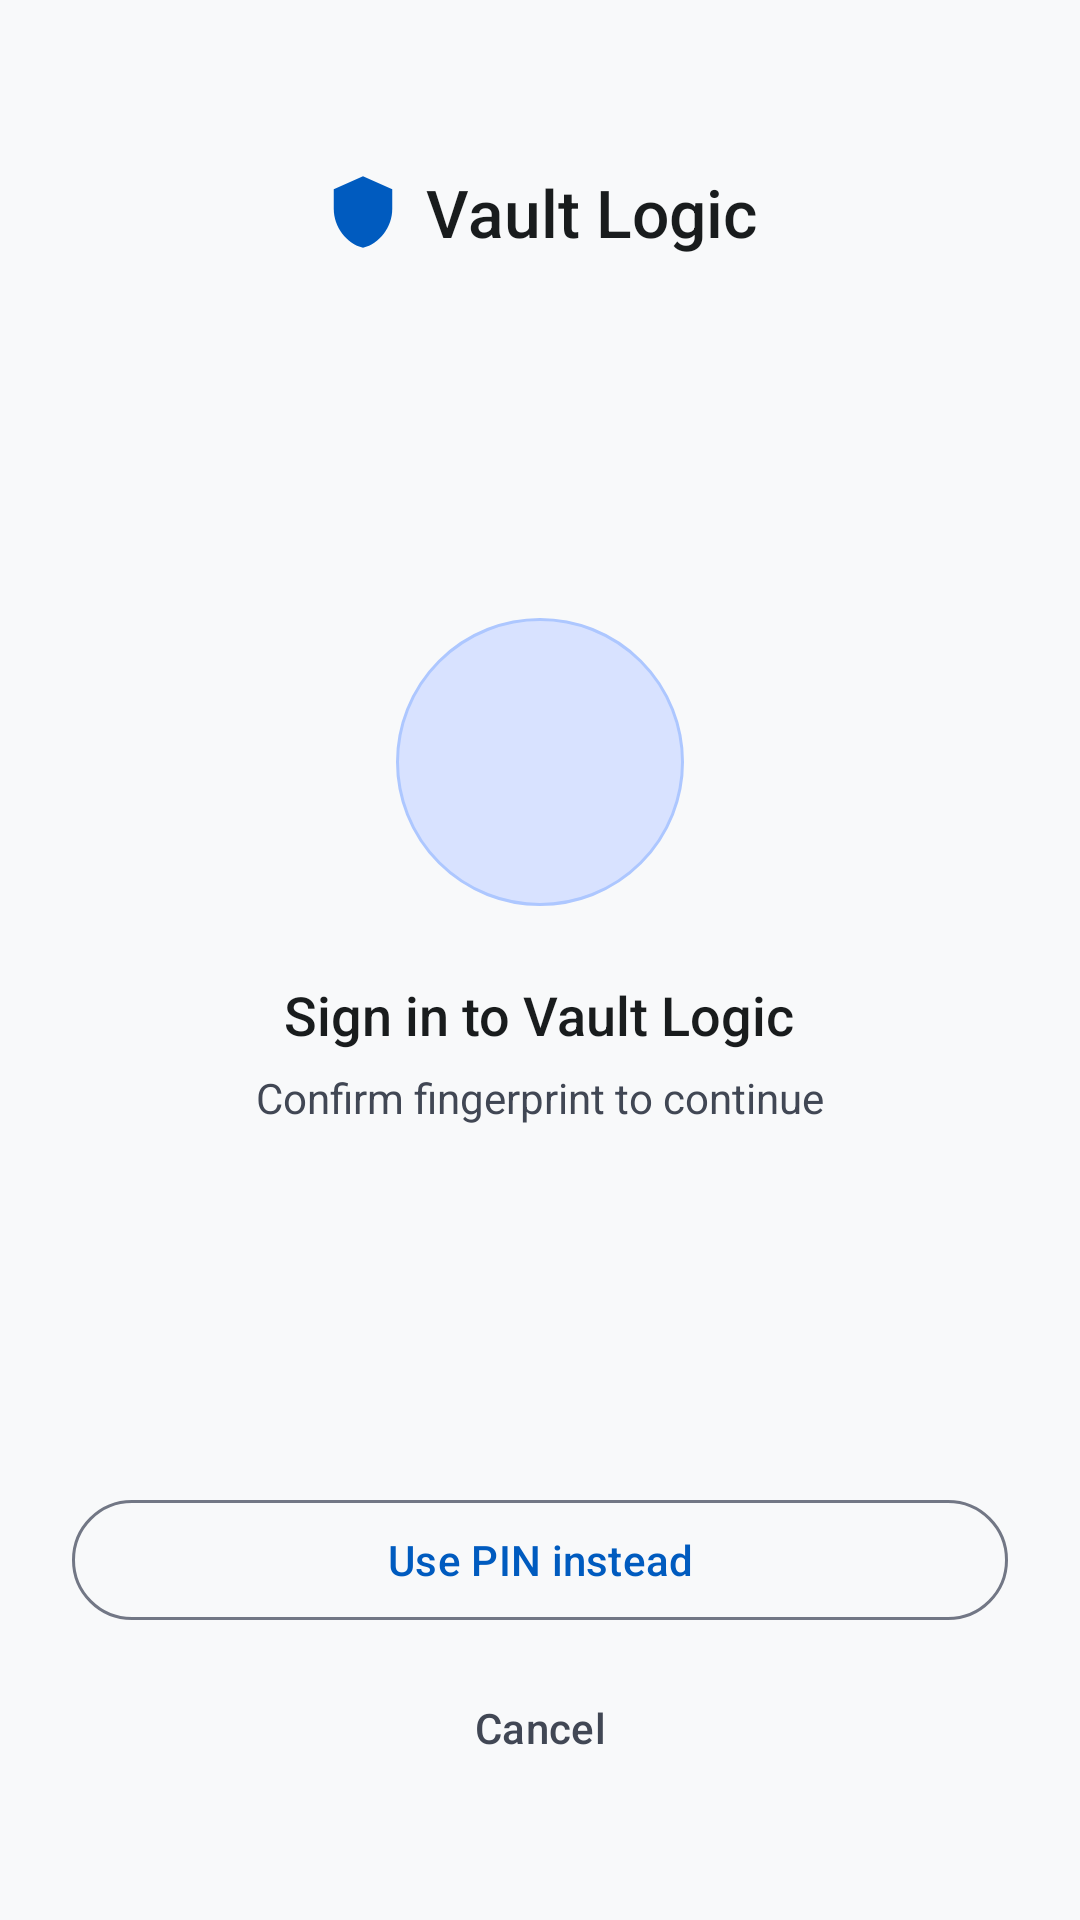

Screen size 1080*1920. Icon name, then its center in pixels as (x=x, y=y):
shield: (x=363, y=212)
